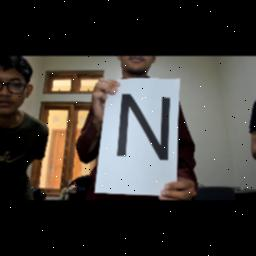n: (116, 88, 174, 172)
